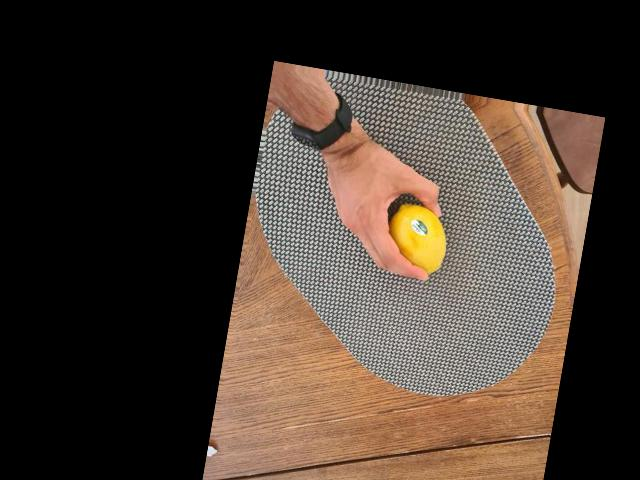lemon: (382, 199, 455, 282)
